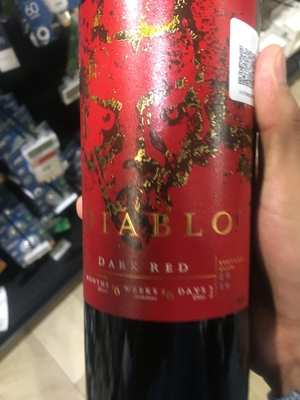diablo dark red: (76, 1, 266, 379)
